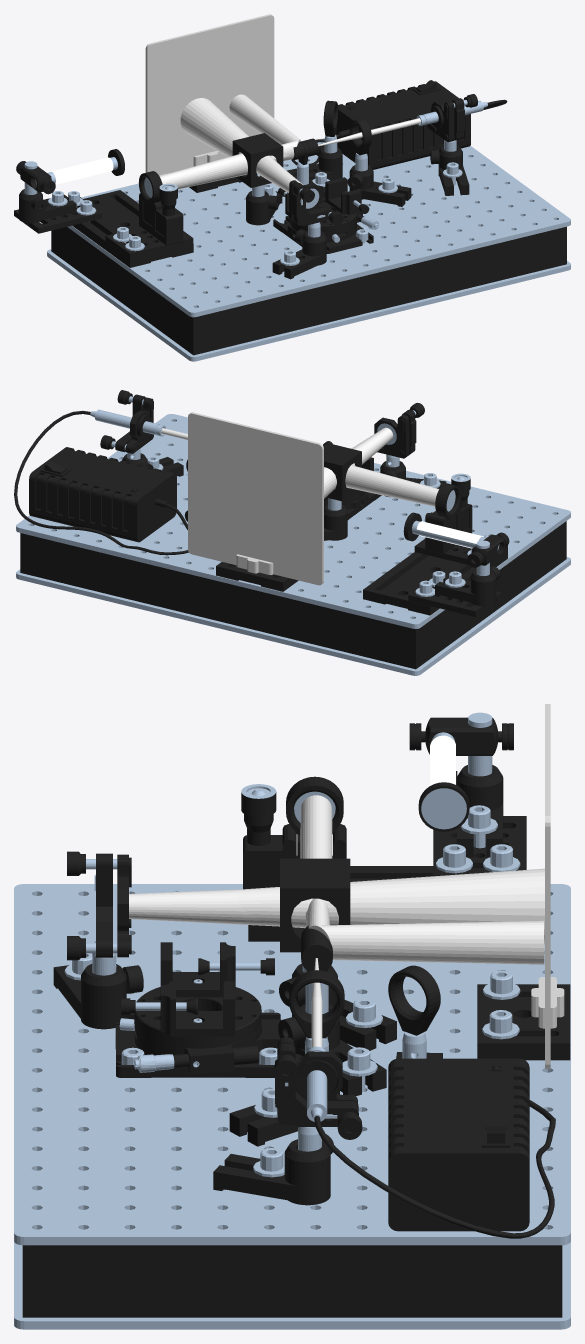
The picture shows the model from 3 angles, top to bottom: view 1: azimuth 30°, elevation 25°; view 2: azimuth 150°, elevation 25°; view 3: azimuth 270°, elevation 25°; orthographic projection. The views are drawn at different scales.
Visible parts, largest first — view 1: Base, Screen, SD5, LEDLightWhite, ThermalMirror, Mirror1, Laser, TranslateMirror, RotaryStage, LaserBeamBS, TranslateMirrorBase.001, TranslateMirrorBase (+4 smaller); view 2: Base, Screen, SD5, ThermalMirror, Laser, LEDLightWhite, TranslateMirror, Mirror1, TranslateMirrorBase.001, LaserBeam, TranslateMirrorBase; view 3: Base, SD5, LEDLightWhite, Laser, RotaryStage, LaserBeamBS, ThermalMirror, Mirror1, Screen, TranslateMirror, LaserBeam, TranslateMirrorBase.001 (+3 smaller).
Part boxes in pixels (x1,y1,x2,y2): Base: (47, 99, 570, 361); Screen: (145, 14, 274, 192); SD5: (336, 80, 470, 169); LEDLightWhite: (159, 98, 290, 189); ThermalMirror: (16, 149, 124, 223); Mirror1: (272, 180, 343, 279); Laser: (416, 94, 487, 195); TranslateMirror: (138, 171, 183, 245); RotaryStage: (278, 177, 369, 232); LaserBeamBS: (229, 94, 300, 160); TranslateMirrorBase.001: (14, 191, 101, 233); TranslateMirrorBase: (105, 227, 193, 258); Base: (14, 410, 570, 675); Screen: (188, 412, 323, 591); SD5: (29, 447, 176, 542); ThermalMirror: (403, 512, 509, 606); Laser: (90, 390, 183, 476); LEDLightWhite: (324, 447, 438, 506); TranslateMirror: (425, 473, 472, 553); Mirror1: (374, 402, 446, 497); TranslateMirrorBase.001: (408, 571, 501, 616); LaserBeam: (161, 427, 393, 464); TranslateMirrorBase: (414, 539, 507, 565); Base: (14, 844, 570, 1329); SD5: (388, 1058, 529, 1231); LEDLightWhite: (230, 795, 544, 944); Laser: (213, 1037, 362, 1205); RotaryStage: (121, 942, 274, 1048); LaserBeamBS: (306, 898, 544, 964); ThermalMirror: (409, 712, 513, 857); Mirror1: (53, 851, 143, 1029); Screen: (477, 704, 570, 1068); TranslateMirror: (241, 776, 346, 889); LaserBeam: (129, 889, 322, 1047); TranslateMirrorBase.001: (433, 805, 526, 876).
Bounding box in the file's own units: 5.42 × 2.16 × 3.
